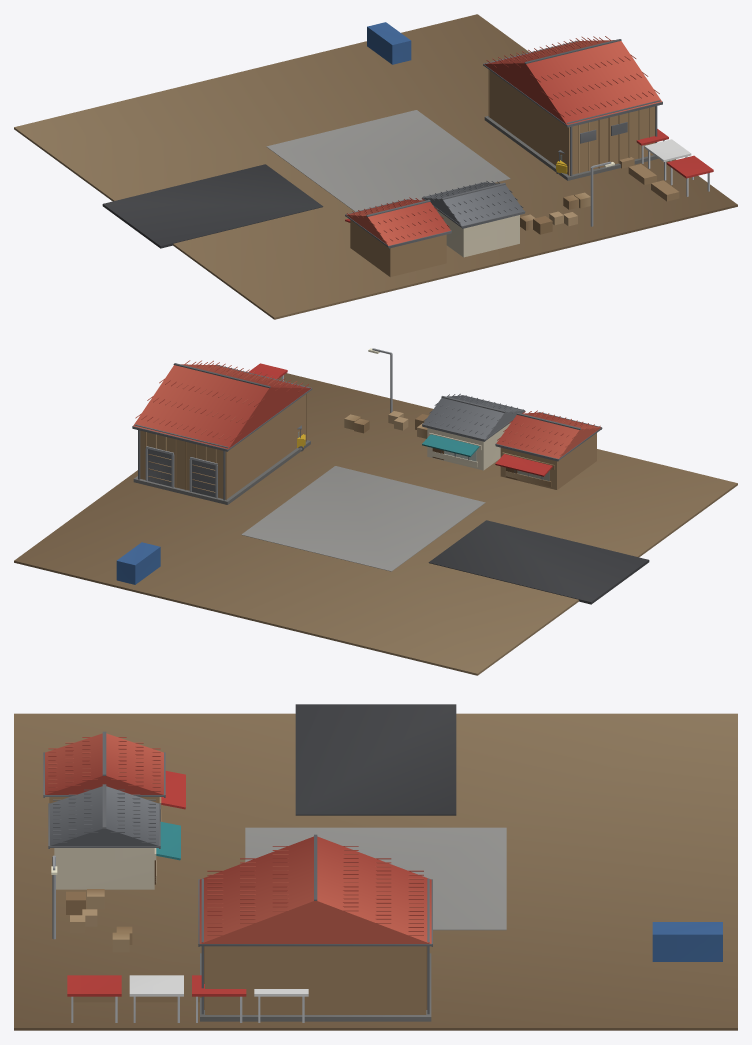
File: Market_P1.fbx
3 renders of one model, top to bottom at view 1: azimuth 30°, elevation 25°; view 2: azimuth 150°, elevation 25°; view 3: azimuth 270°, elevation 25°, orthographic. The views are drawn at different scales.
Parts seen in each view (by area): view 1: Market.Pad, Market.WH1, Market.Shop0, Market.Shop1, Market.Stalls, Market.Goods; view 2: Market.Pad, Market.WH1, Market.Shop0, Market.Shop1, Market.Goods; view 3: Market.Pad, Market.WH1, Market.Shop1, Market.Shop0, Market.Goods, Market.Stalls.
Boxes of the visible parts, x1,y1,x2,y2 form: Market.Pad: [14, 14, 737, 319]; Market.WH1: [483, 36, 662, 180]; Market.Shop0: [345, 197, 451, 276]; Market.Shop1: [422, 180, 525, 257]; Market.Stalls: [619, 129, 713, 201]; Market.Goods: [367, 22, 590, 234]; Market.Pad: [14, 373, 737, 675]; Market.WH1: [132, 360, 312, 504]; Market.Shop0: [495, 410, 602, 489]; Market.Shop1: [422, 393, 524, 470]; Market.Goods: [116, 411, 428, 584]; Market.Pad: [14, 704, 737, 1030]; Market.WH1: [198, 834, 432, 1021]; Market.Shop1: [48, 784, 180, 889]; Market.Shop0: [43, 731, 185, 821]; Market.Goods: [66, 889, 722, 961]; Market.Stalls: [67, 975, 308, 1022].
Bounding box in the file's own units: 7600 × 1375 × 7200.
